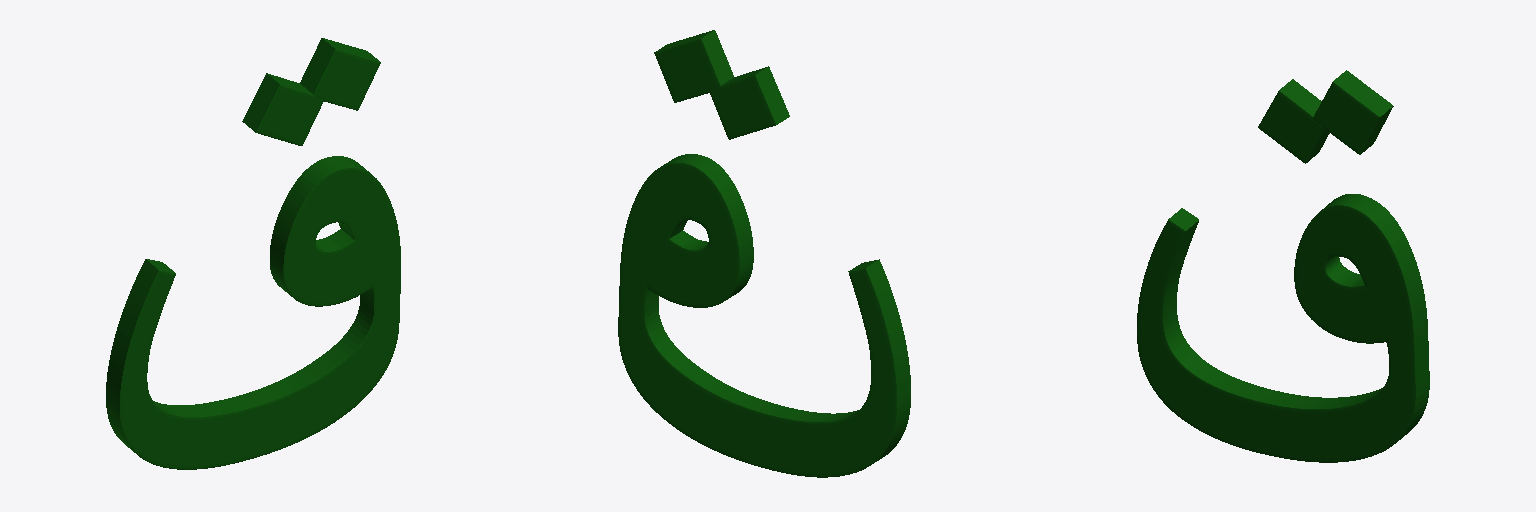
File: Qaf.obj
3 views of the same model, side by side, from view 1: azimuth 30°, elevation 25°; view 2: azimuth 150°, elevation 25°; view 3: azimuth 330°, elevation 25° (orthographic).
Parts seen in each view (by area): view 1: Curve.020; view 2: Curve.020; view 3: Curve.020.
Boxes of the visible parts, x1=… form: Curve.020: x1=106, y1=38, x2=400, y2=469; Curve.020: x1=618, y1=30, x2=910, y2=477; Curve.020: x1=1137, y1=70, x2=1429, y2=462.
Bounding box in the file's own units: 3.62 × 5 × 0.6045.